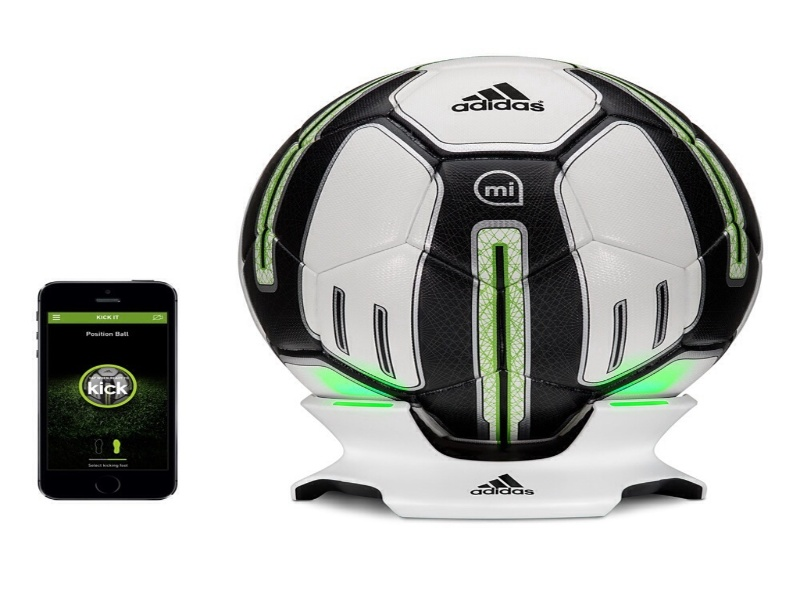cellphone: (34, 273, 184, 503)
